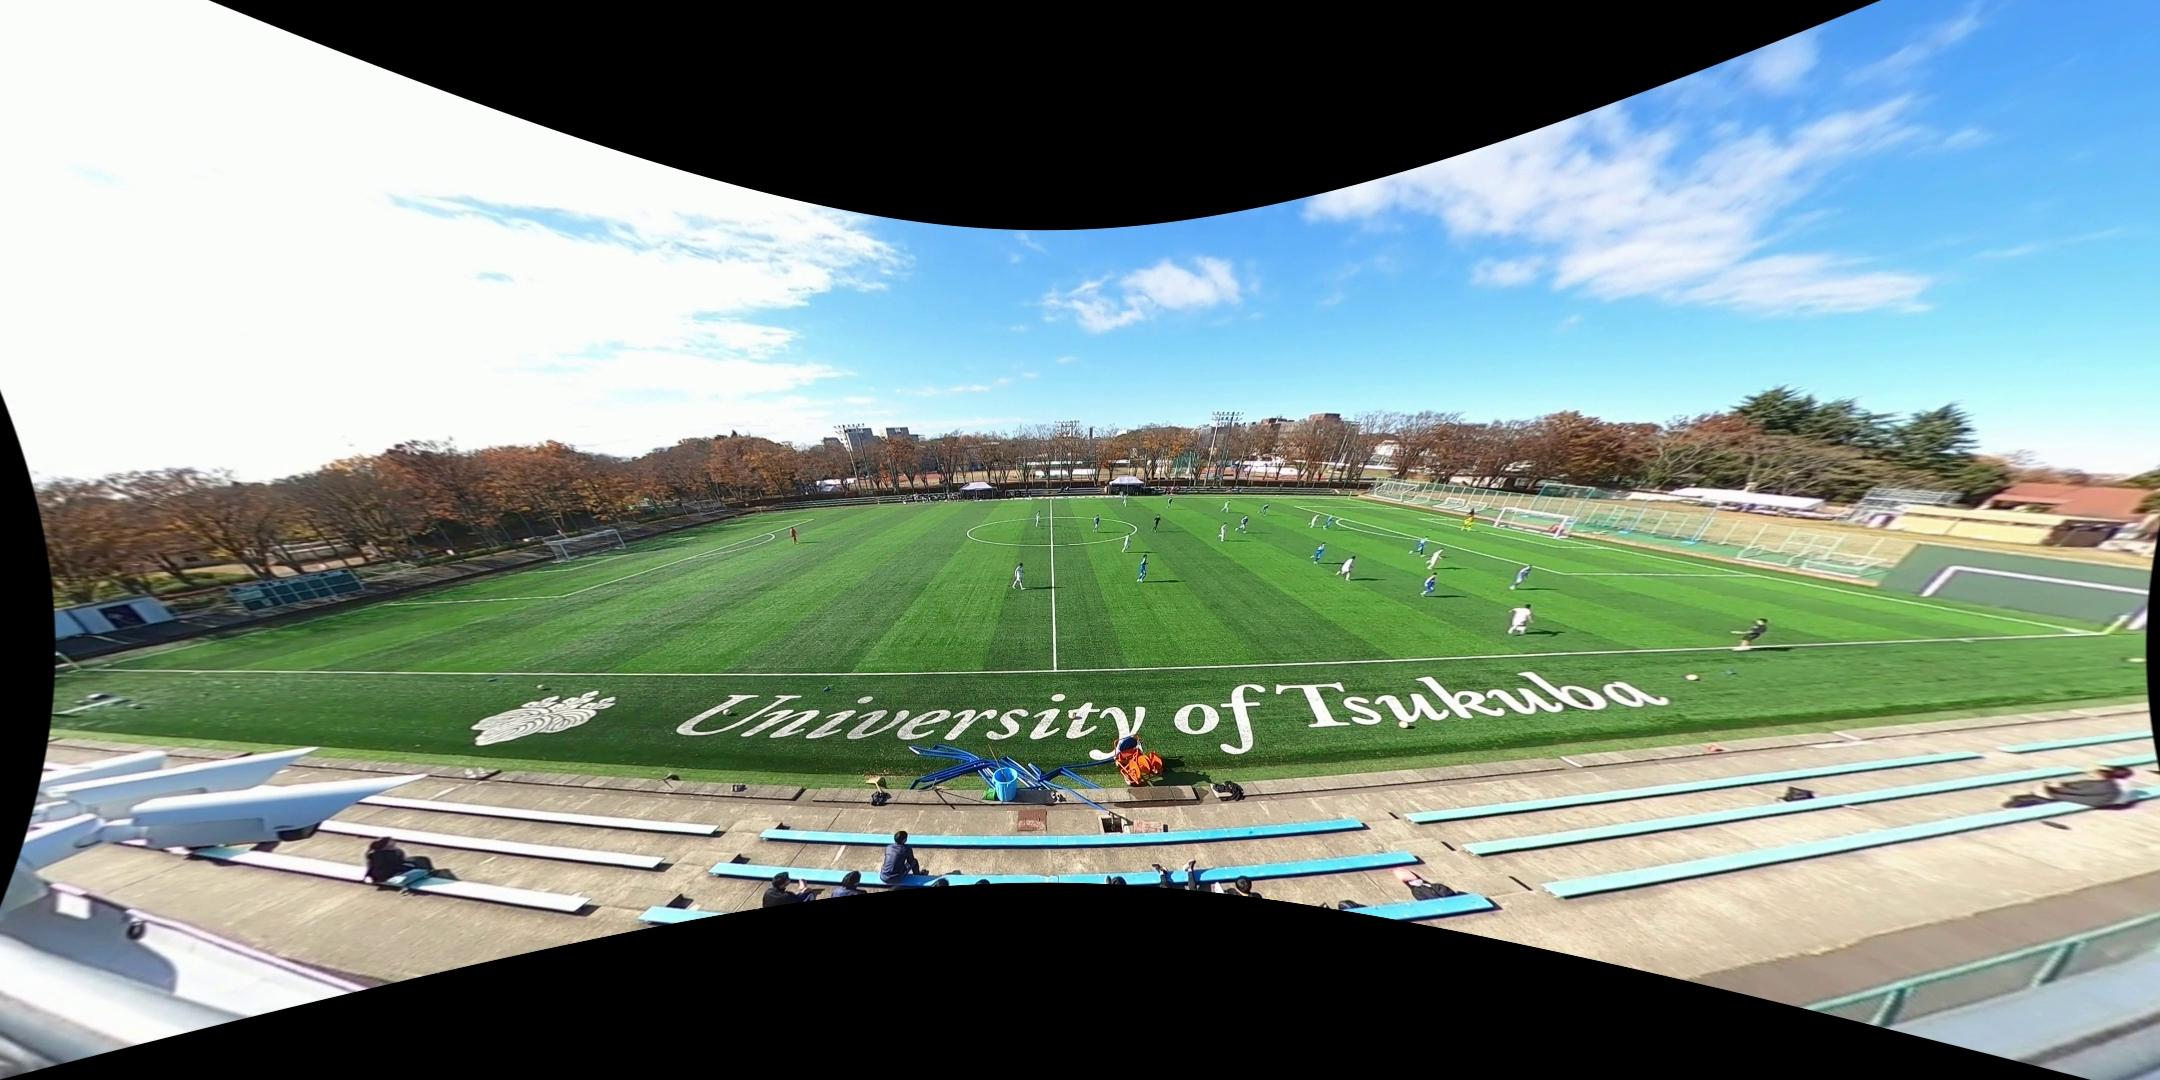person: (1731, 619, 1768, 651), (1508, 603, 1535, 636), (1510, 564, 1533, 590), (1335, 556, 1356, 581), (1420, 572, 1438, 597), (1409, 536, 1429, 557), (1426, 548, 1445, 570), (1012, 563, 1026, 590), (1310, 542, 1327, 564), (1137, 554, 1148, 583), (1234, 515, 1249, 533), (1217, 522, 1229, 541), (1461, 516, 1476, 531), (1122, 533, 1132, 554), (1307, 513, 1321, 528), (1322, 514, 1335, 530), (1151, 514, 1161, 532), (1256, 503, 1269, 516), (790, 527, 799, 545), (1220, 500, 1232, 513), (1093, 515, 1101, 532), (1122, 494, 1130, 507), (1036, 511, 1041, 527), (1166, 497, 1172, 509)
sports ball: (1683, 671, 1702, 686), (1396, 718, 1411, 732), (1065, 709, 1078, 722), (535, 683, 548, 693), (723, 707, 733, 718)
